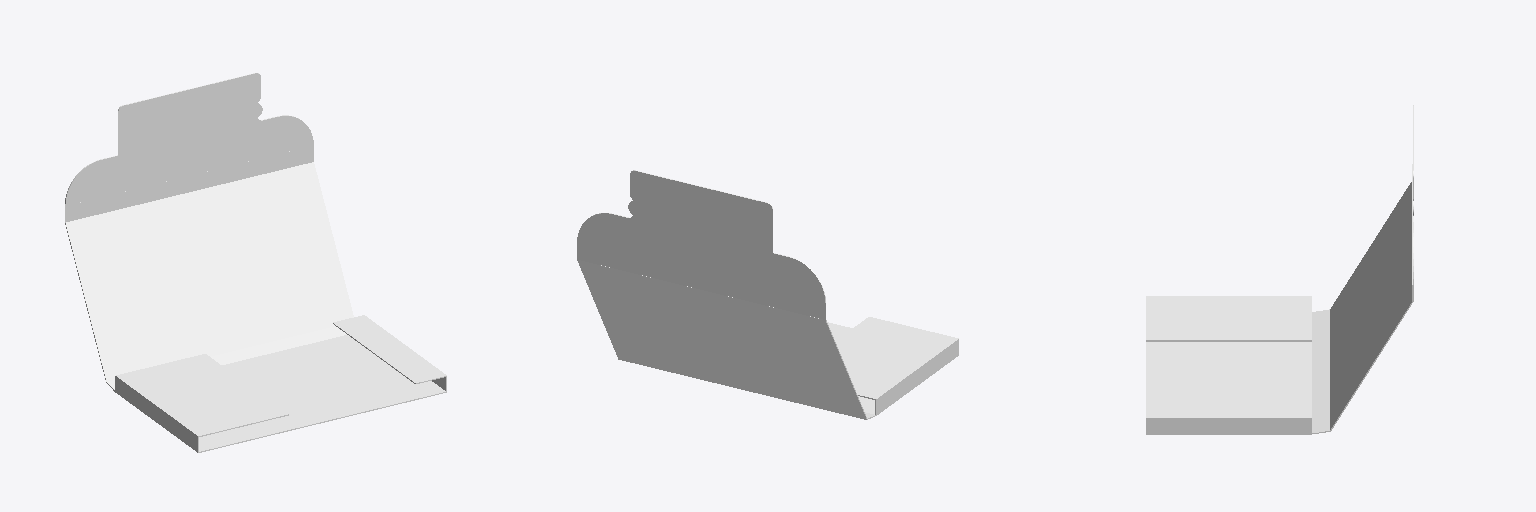
The model's file is CBEnvelopeOpened.obj.
3 renders of one model, left to right at view 1: azimuth 30°, elevation 25°; view 2: azimuth 150°, elevation 25°; view 3: azimuth 270°, elevation 25°, orthographic.
Visible parts, largest first — view 1: 011_EnvelopeInsideFront, 017_EnvelopeInsideFlap_1, 007_EnvelopeInsideBack_2, 008_EnvelopeOutsideBigLug_2, 014_EnvelopeInsideTop, 005_EnvelopeOutsideSmallLug, 012_EnvelopeInsideBottom, 001_EnvelopeOutsideLeft_2, 018_Edges; view 2: 010_EnvelopeOutsideFront, 016_EnvelopeOutsideFlap_2, 008_EnvelopeOutsideBigLug_2, 015_EnvelopeOutsideTop, 001_EnvelopeOutsideLeft_2; view 3: 007_EnvelopeInsideBack_2, 011_EnvelopeInsideFront, 008_EnvelopeOutsideBigLug_2, 003_EnvelopeOutsideRight_2, 005_EnvelopeOutsideSmallLug, 012_EnvelopeInsideBottom, 018_Edges.
Boxes of the visible parts, x1=… form: 011_EnvelopeInsideFront: x1=66, y1=162, x2=353, y2=381; 017_EnvelopeInsideFlap_1: x1=65, y1=73, x2=313, y2=205; 007_EnvelopeInsideBack_2: x1=199, y1=335, x2=445, y2=451; 008_EnvelopeOutsideBigLug_2: x1=116, y1=354, x2=287, y2=435; 014_EnvelopeInsideTop: x1=65, y1=146, x2=313, y2=222; 005_EnvelopeOutsideSmallLug: x1=333, y1=315, x2=446, y2=382; 012_EnvelopeInsideBottom: x1=107, y1=326, x2=346, y2=389; 001_EnvelopeOutsideLeft_2: x1=115, y1=376, x2=197, y2=451; 018_Edges: x1=65, y1=73, x2=446, y2=452; 010_EnvelopeOutsideFront: x1=577, y1=260, x2=866, y2=419; 016_EnvelopeOutsideFlap_2: x1=577, y1=171, x2=825, y2=303; 008_EnvelopeOutsideBigLug_2: x1=835, y1=317, x2=958, y2=398; 015_EnvelopeOutsideTop: x1=577, y1=243, x2=825, y2=319; 001_EnvelopeOutsideLeft_2: x1=876, y1=339, x2=958, y2=415; 007_EnvelopeInsideBack_2: x1=1146, y1=342, x2=1311, y2=401; 011_EnvelopeInsideFront: x1=1330, y1=182, x2=1411, y2=429; 008_EnvelopeOutsideBigLug_2: x1=1146, y1=296, x2=1311, y2=339; 003_EnvelopeOutsideRight_2: x1=1146, y1=418, x2=1311, y2=434; 005_EnvelopeOutsideSmallLug: x1=1146, y1=402, x2=1311, y2=417; 012_EnvelopeInsideBottom: x1=1312, y1=309, x2=1329, y2=432; 018_Edges: x1=1146, y1=105, x2=1413, y2=433.
Bounding box in the file's own units: 235 × 213 × 219.